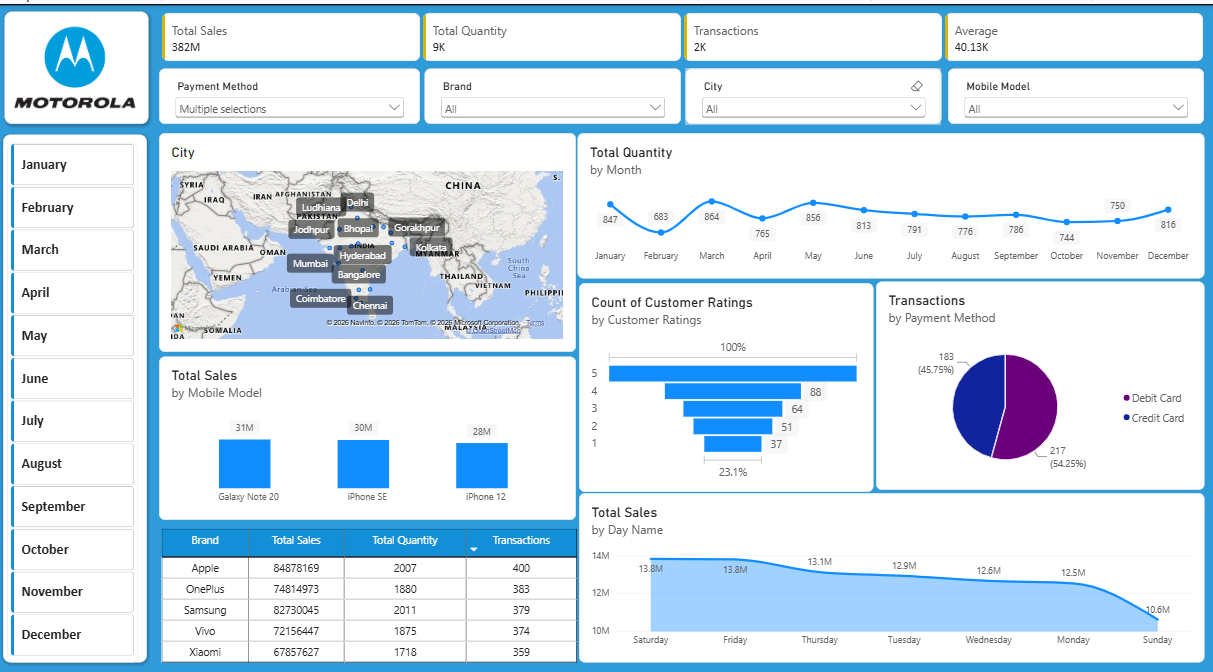

Layout of this report page (visuals, bound fields, positions):
{"tool":"powerbi","page":{"name":"Page 1","canvas":[1920,1080],"ordinal":0},"visuals":[{"type":"shape","box":[10,10,192,150],"z":0},{"type":"image","box":[18,20,168,130],"z":1000},{"type":"shape","box":[8,174,192,704],"z":2000},{"type":"listSlicer","fields":{"Values":["Sales Data.Date.Variation.Date Hierarchy.Month"]},"box":[14,186,174,692],"z":3000},{"type":"cardVisual","fields":{"Data":["Sales Data.Total Sales","Sales Data.Total Quantity","Sales Data.Transactions","Sales Data.Average"]},"box":[216,8,1398,72],"z":4000},{"type":"map","fields":{"Category":["Sales Data.City"]},"box":[216.7,172.8,556,292],"z":5000},{"type":"lineChart","fields":{"Category":["Sales Data.Date.Variation.Date Hierarchy.Month","Sales Data.Date.Variation.Date Hierarchy.Day"],"Y":["Sales Data.Total Quantity"]},"box":[774,172,836,194],"z":6000},{"type":"clusteredColumnChart","fields":{"Category":["Sales Data.Mobile Model"],"Y":["Sales Data.Total Sales"]},"box":[216.7,470.8,556,218],"z":7000},{"type":"pieChart","fields":{"Category":["Sales Data.Payment Method"],"Y":["Sales Data.Transactions"]},"box":[1172,370,438,278],"z":8000},{"type":"funnel","fields":{"Category":["Sales Data.Customer Ratings"],"Y":["CountNonNull(Sales Data.Customer Ratings)"]},"box":[776.9,371,392.5,278.8],"z":9000},{"type":"areaChart","fields":{"Category":["Sales Data.Day Name"],"Y":["Sales Data.Total Sales"]},"box":[776,652,834,226],"z":10000},{"type":"tableEx","fields":{"Values":["Sales Data.Brand","Sales Data.Total Sales","Sales Data.Total Quantity","Sales Data.Transactions"]},"box":[206.7,688.8,580,208],"z":11000},{"type":"slicer","fields":{"Values":["Sales Data.Payment Method"]},"box":[216,86,348,74],"z":12000},{"type":"slicer","fields":{"Values":["Sales Data.Brand"]},"box":[570,86,342,74],"z":13000},{"type":"slicer","fields":{"Values":["Sales Data.City"]},"box":[917.1,85.7,341.4,74.3],"z":14000},{"type":"slicer","fields":{"Values":["Sales Data.Mobile Model"]},"box":[1267.1,85.7,341.4,74.3],"z":15000}]}

Visuals, with their boxes in screenshot pixels (x1, y1, x2, y2), scaled from the page's 1920x1080 canvas onto the 1213x672 screenshot:
shape: [6, 6, 128, 100]
image: [11, 12, 118, 93]
shape: [5, 108, 126, 546]
listSlicer - Sales Data.Date.Variation.Date Hierarchy.Month: [9, 116, 119, 546]
cardVisual - Sales Data.Total Sales x Sales Data.Total Quantity: [136, 5, 1020, 50]
map - Sales Data.City: [137, 108, 488, 289]
lineChart - Sales Data.Date.Variation.Date Hierarchy.Month x Sales Data.Date.Variation.Date Hierarchy.Day: [489, 107, 1017, 228]
clusteredColumnChart - Sales Data.Mobile Model x Sales Data.Total Sales: [137, 293, 488, 429]
pieChart - Sales Data.Payment Method x Sales Data.Transactions: [740, 230, 1017, 403]
funnel - Sales Data.Customer Ratings x CountNonNull(Sales Data.Customer Ratings): [491, 231, 739, 404]
areaChart - Sales Data.Day Name x Sales Data.Total Sales: [490, 406, 1017, 546]
tableEx - Sales Data.Brand x Sales Data.Total Sales: [131, 429, 497, 558]
slicer - Sales Data.Payment Method: [136, 54, 356, 100]
slicer - Sales Data.Brand: [360, 54, 576, 100]
slicer - Sales Data.City: [579, 53, 795, 100]
slicer - Sales Data.Mobile Model: [801, 53, 1016, 100]
